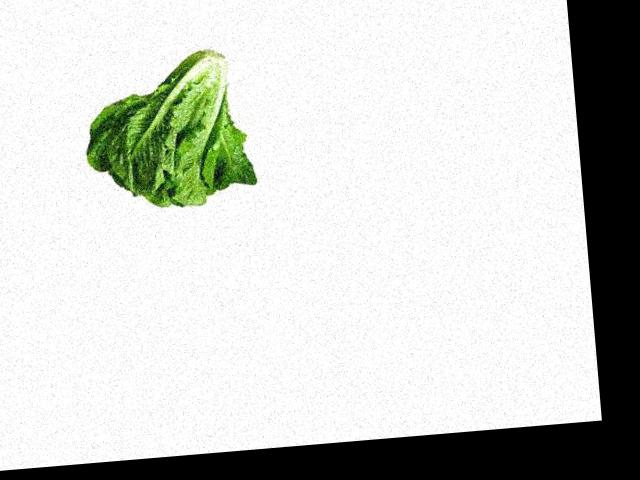lettuce: (94, 53, 252, 211)
